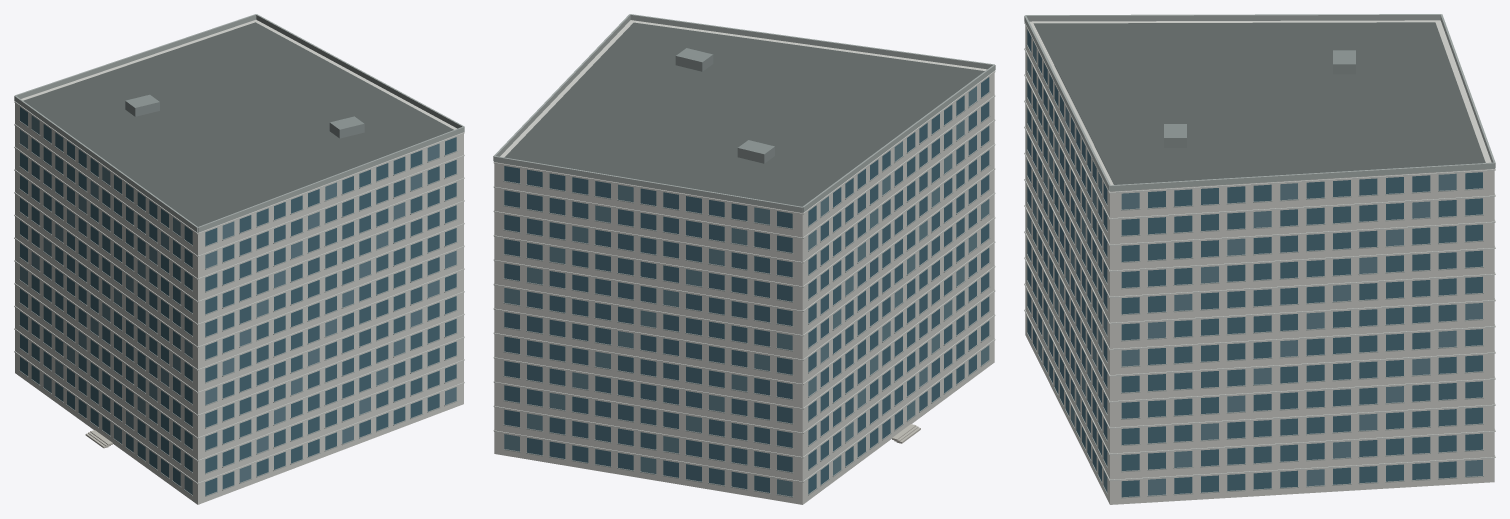
Rendered from 东侧办公园区-001.glb.
3 renders of one model, left to right at view 1: azimuth 30°, elevation 25°; view 2: azimuth 150°, elevation 25°; view 3: azimuth 270°, elevation 25°, orthographic. The views are drawn at different scales.
Parts seen in each view (by area): view 1: 东侧办公园区-001; view 2: 东侧办公园区-001; view 3: 东侧办公园区-001.
Part boxes in pixels (x1,y1,x2,y2): 东侧办公园区-001: (14, 14, 464, 504); 东侧办公园区-001: (493, 14, 995, 504); 东侧办公园区-001: (1024, 14, 1495, 504).
Bounding box in the file's own units: 51.04 × 43.42 × 57.19.
